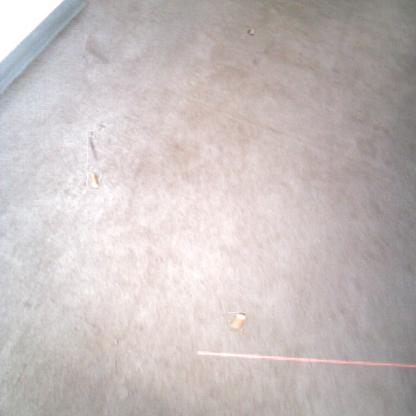dirty: (229, 312, 246, 330), (86, 173, 101, 188), (247, 27, 255, 35)
mark: (83, 36, 111, 63), (87, 137, 98, 165), (97, 121, 105, 129), (89, 130, 96, 138)
